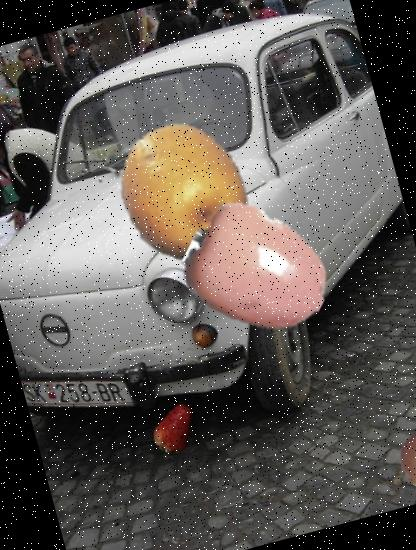Kaki: (170, 180, 349, 359)
Kumquats: (96, 106, 272, 282)
Strawberry: (145, 397, 207, 459)
Tangelo: (389, 423, 416, 493)
